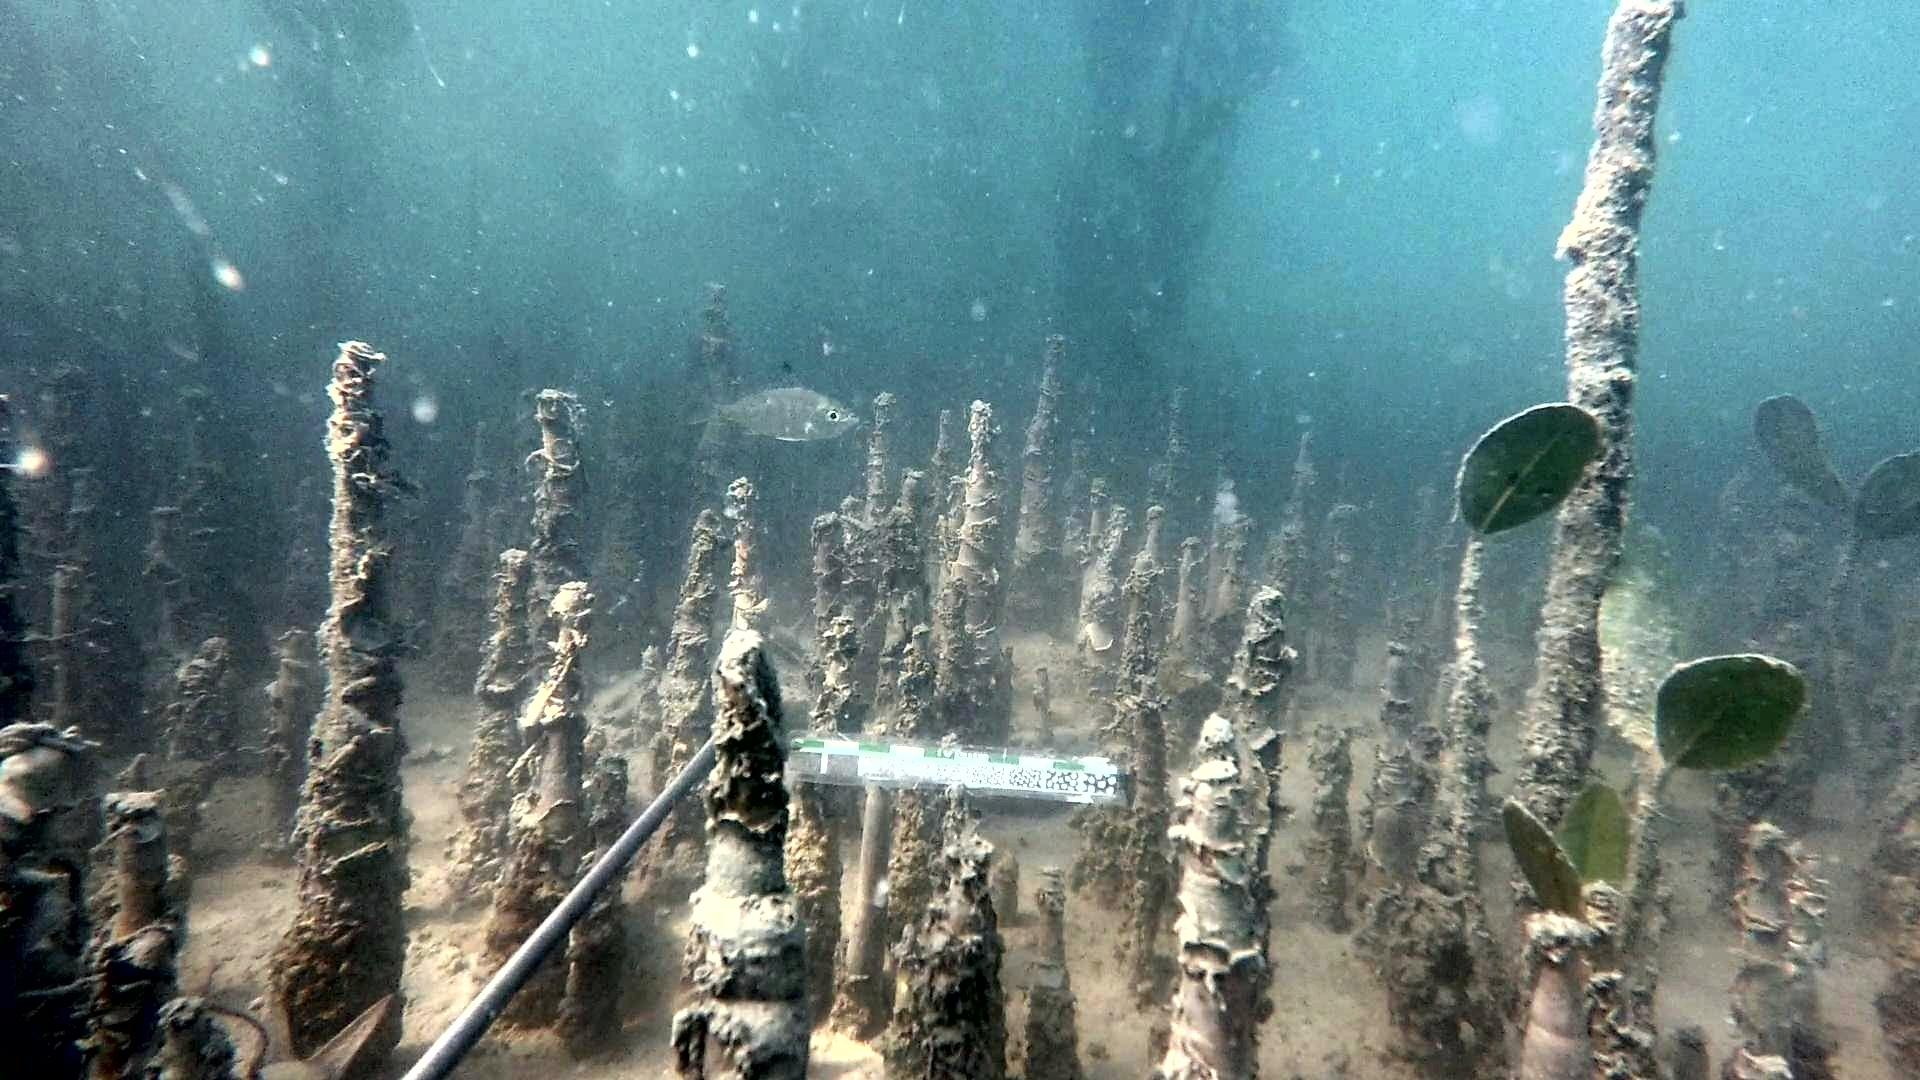gerres: (691, 360, 862, 444)
